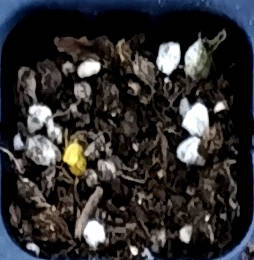pepper seed: (18, 52, 105, 229)
